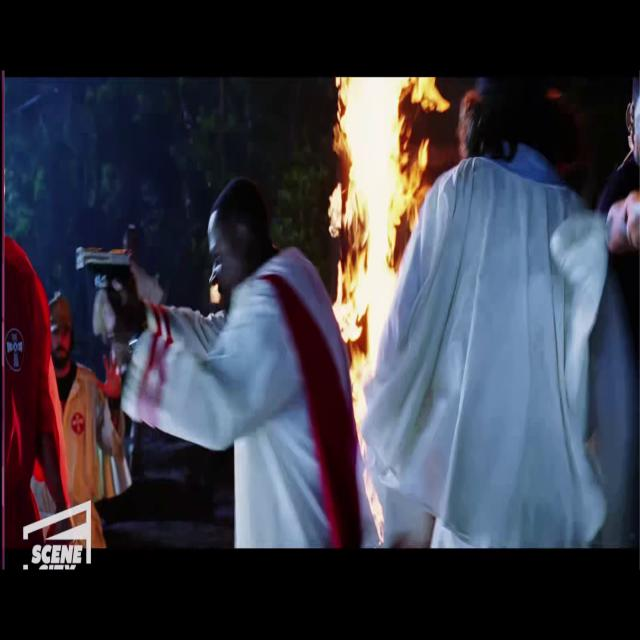weapons: (69, 228, 140, 351)
